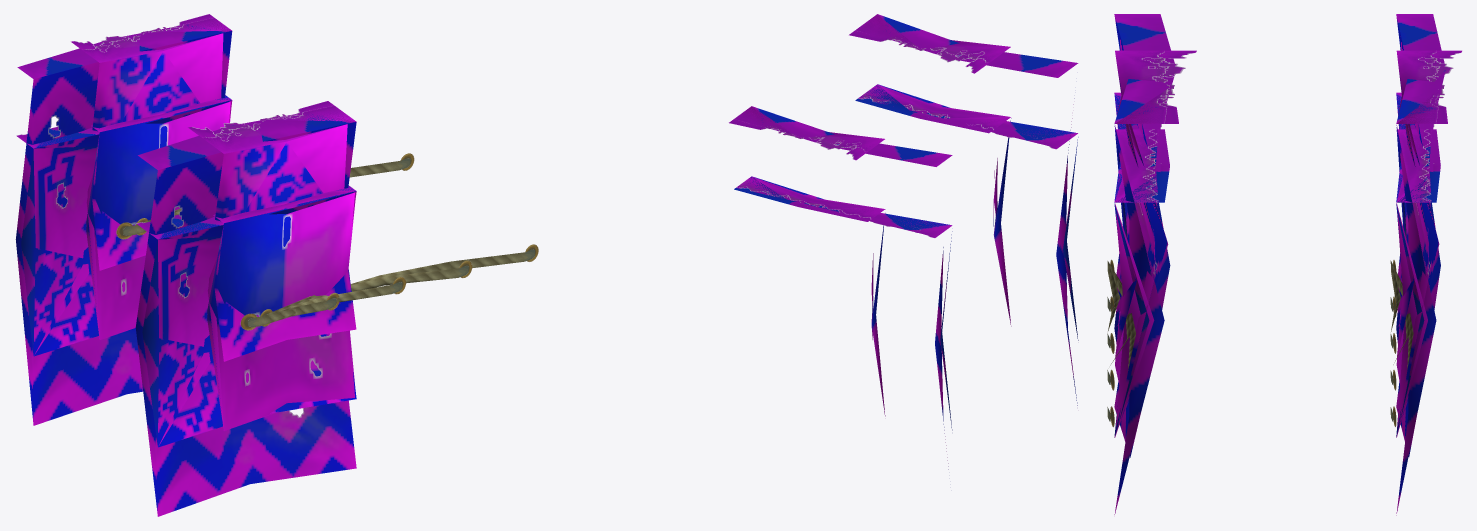
The model's file is model_animated.glb.
The picture shows the model from 3 angles, left to right: view 1: azimuth 30°, elevation 25°; view 2: azimuth 150°, elevation 25°; view 3: azimuth 270°, elevation 25°; orthographic projection. The views are drawn at different scales.
Parts seen in each view (by area): view 1: hangingcloth.model-MeshSets[tarp_3x5_01].Mesh[0] (×2), hangingcloth.model-MeshSets[tarp_2x3_02].Mesh[0] (×2), hangingcloth.model-MeshSets[tarp_3x3_01].Mesh[0] (×2), hangingcloth.model-MeshSets[tarp_2x4_01].Mesh[0] (×2), hangingcloth.model-MeshSets[tarp_3x3_02].Mesh[0] (×2), hangingcloth.model-MeshSets[tarp_2x2_01].Mesh[0] (×2), hangingcloth.model-MeshSets[tarp_2x4_02].Mesh[0] (×2), hangingcloth.model-MeshSets[rope_length4].Mesh[0] (×2), hangingcloth.model-MeshSets[tarp_2x4_03].Mesh[0] (×2), hangingcloth.model-MeshSets[rope_length3].Mesh[0], hangingcloth.model-MeshSets[rope_length2].Mesh[0], hangingcloth.model-MeshSets[rope_length1].Mesh[0]; view 2: hangingcloth.model-MeshSets[tarp_3x5_01].Mesh[0] (×2), hangingcloth.model-MeshSets[tarp_3x3_01].Mesh[0] (×2), hangingcloth.model-MeshSets[tarp_2x4_03].Mesh[0] (×2), hangingcloth.model-MeshSets[tarp_2x2_01].Mesh[0] (×2), hangingcloth.model-MeshSets[tarp_2x4_01].Mesh[0] (×2), hangingcloth.model-MeshSets[tarp_2x3_01].Mesh[0] (×2), hangingcloth.model-MeshSets[tarp_2x3_02].Mesh[0] (×2); view 3: hangingcloth.model-MeshSets[tarp_3x5_01].Mesh[0] (×2), hangingcloth.model-MeshSets[tarp_2x4_01].Mesh[0] (×2), hangingcloth.model-MeshSets[tarp_2x2_01].Mesh[0] (×2), hangingcloth.model-MeshSets[tarp_2x3_02].Mesh[0] (×2), hangingcloth.model-MeshSets[tarp_2x4_03].Mesh[0] (×2), hangingcloth.model-MeshSets[tarp_3x3_01].Mesh[0] (×2), hangingcloth.model-MeshSets[tarp_2x3_01].Mesh[0] (×2), hangingcloth.model-MeshSets[tarp_2x2_02].Mesh[0] (×2), hangingcloth.model-MeshSets[rope_length2].Mesh[0].
Boxes of the visible parts, bbox=[...] form: hangingcloth.model-MeshSets[tarp_3x5_01].Mesh[0] (×2): bbox=[15, 19, 356, 516]; hangingcloth.model-MeshSets[tarp_2x3_02].Mesh[0] (×2): bbox=[86, 101, 355, 430]; hangingcloth.model-MeshSets[tarp_3x3_01].Mesh[0] (×2): bbox=[18, 100, 356, 447]; hangingcloth.model-MeshSets[tarp_2x4_01].Mesh[0] (×2): bbox=[82, 17, 355, 430]; hangingcloth.model-MeshSets[tarp_3x3_02].Mesh[0] (×2): bbox=[16, 100, 356, 445]; hangingcloth.model-MeshSets[tarp_2x2_01].Mesh[0] (×2): bbox=[92, 95, 356, 361]; hangingcloth.model-MeshSets[tarp_2x4_02].Mesh[0] (×2): bbox=[94, 27, 322, 335]; hangingcloth.model-MeshSets[rope_length4].Mesh[0] (×2): bbox=[143, 153, 538, 314]; hangingcloth.model-MeshSets[tarp_2x4_03].Mesh[0] (×2): bbox=[71, 14, 354, 366]; hangingcloth.model-MeshSets[rope_length3].Mesh[0]: bbox=[268, 260, 472, 314]; hangingcloth.model-MeshSets[rope_length2].Mesh[0]: bbox=[260, 276, 405, 325]; hangingcloth.model-MeshSets[rope_length1].Mesh[0]: bbox=[240, 293, 339, 330]; hangingcloth.model-MeshSets[tarp_3x5_01].Mesh[0] (×2): bbox=[747, 14, 1078, 469]; hangingcloth.model-MeshSets[tarp_3x3_01].Mesh[0] (×2): bbox=[752, 84, 1078, 430]; hangingcloth.model-MeshSets[tarp_2x4_03].Mesh[0] (×2): bbox=[729, 15, 1009, 226]; hangingcloth.model-MeshSets[tarp_2x2_01].Mesh[0] (×2): bbox=[736, 84, 1010, 219]; hangingcloth.model-MeshSets[tarp_2x4_01].Mesh[0] (×2): bbox=[734, 14, 1010, 306]; hangingcloth.model-MeshSets[tarp_2x3_01].Mesh[0] (×2): bbox=[734, 84, 1009, 339]; hangingcloth.model-MeshSets[tarp_2x3_02].Mesh[0] (×2): bbox=[871, 118, 1011, 416]; hangingcloth.model-MeshSets[tarp_3x5_01].Mesh[0] (×2): bbox=[1114, 14, 1445, 515]; hangingcloth.model-MeshSets[tarp_2x4_01].Mesh[0] (×2): bbox=[1115, 50, 1438, 435]; hangingcloth.model-MeshSets[tarp_2x2_01].Mesh[0] (×2): bbox=[1115, 129, 1430, 357]; hangingcloth.model-MeshSets[tarp_2x3_02].Mesh[0] (×2): bbox=[1115, 130, 1427, 436]; hangingcloth.model-MeshSets[tarp_2x4_03].Mesh[0] (×2): bbox=[1116, 50, 1461, 284]; hangingcloth.model-MeshSets[tarp_3x3_01].Mesh[0] (×2): bbox=[1114, 92, 1433, 437]; hangingcloth.model-MeshSets[tarp_2x3_01].Mesh[0] (×2): bbox=[1116, 129, 1440, 202]; hangingcloth.model-MeshSets[tarp_2x2_02].Mesh[0] (×2): bbox=[1136, 129, 1431, 256]; hangingcloth.model-MeshSets[rope_length2].Mesh[0]: bbox=[1107, 261, 1120, 353].
Bounding box in the file's own units: 5.75 × 5 × 4.09.
Materials: 1 (1 with a texture image).
